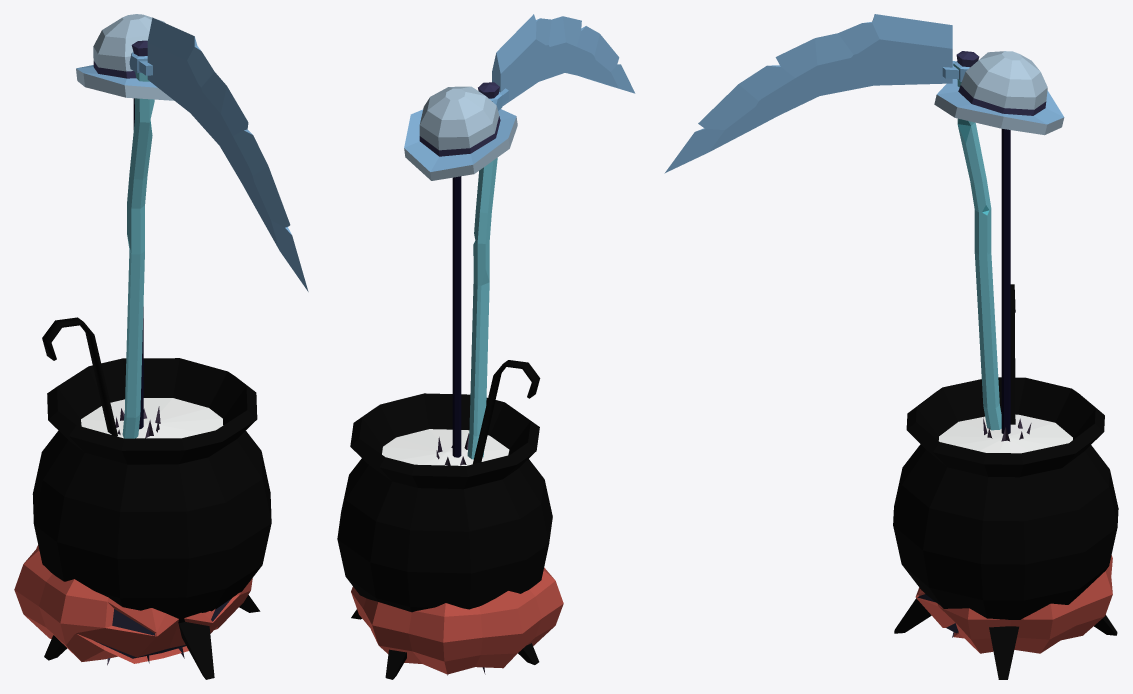
File: HalloweenItems.fbx
The picture shows the model from 3 angles, left to right: view 1: azimuth 30°, elevation 25°; view 2: azimuth 150°, elevation 25°; view 3: azimuth 270°, elevation 25°; orthographic projection. The views are drawn at different scales.
Parts seen in each view (by area): view 1: Cauldron, Scythe, Pumpkin, Skeleton_Hat, Spoon, Broom; view 2: Cauldron, Scythe, Pumpkin, Skeleton_Hat, Broom, Spoon; view 3: Cauldron, Scythe, Skeleton_Hat, Pumpkin, Broom, Spoon.
Boxes of the visible parts, bbox=[...] form: Cauldron: bbox=[32, 358, 271, 679]; Scythe: bbox=[122, 17, 308, 438]; Pumpkin: bbox=[14, 545, 252, 663]; Skeleton_Hat: bbox=[76, 14, 174, 100]; Spoon: bbox=[42, 317, 117, 436]; Broom: bbox=[107, 98, 184, 665]; Cauldron: bbox=[337, 393, 552, 679]; Scythe: bbox=[467, 14, 635, 459]; Pumpkin: bbox=[351, 567, 563, 674]; Skeleton_Hat: bbox=[404, 86, 517, 180]; Broom: bbox=[436, 176, 485, 675]; Spoon: bbox=[473, 360, 540, 463]; Cauldron: bbox=[893, 377, 1118, 679]; Scythe: bbox=[664, 14, 1001, 430]; Skeleton_Hat: bbox=[934, 51, 1064, 135]; Pumpkin: bbox=[915, 555, 1112, 653]; Broom: bbox=[952, 129, 1031, 637]; Spoon: bbox=[1010, 284, 1015, 424].
Bounding box in the file's own units: 68.5 × 202 × 134.
